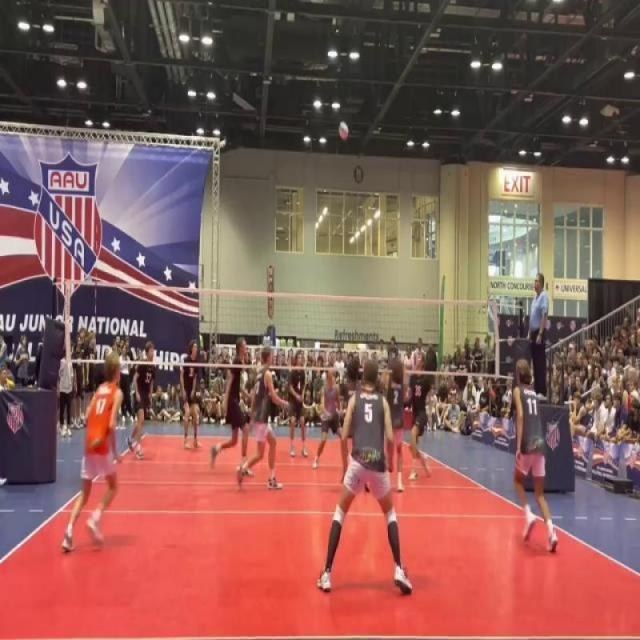volleyball: (338, 119, 350, 142)
